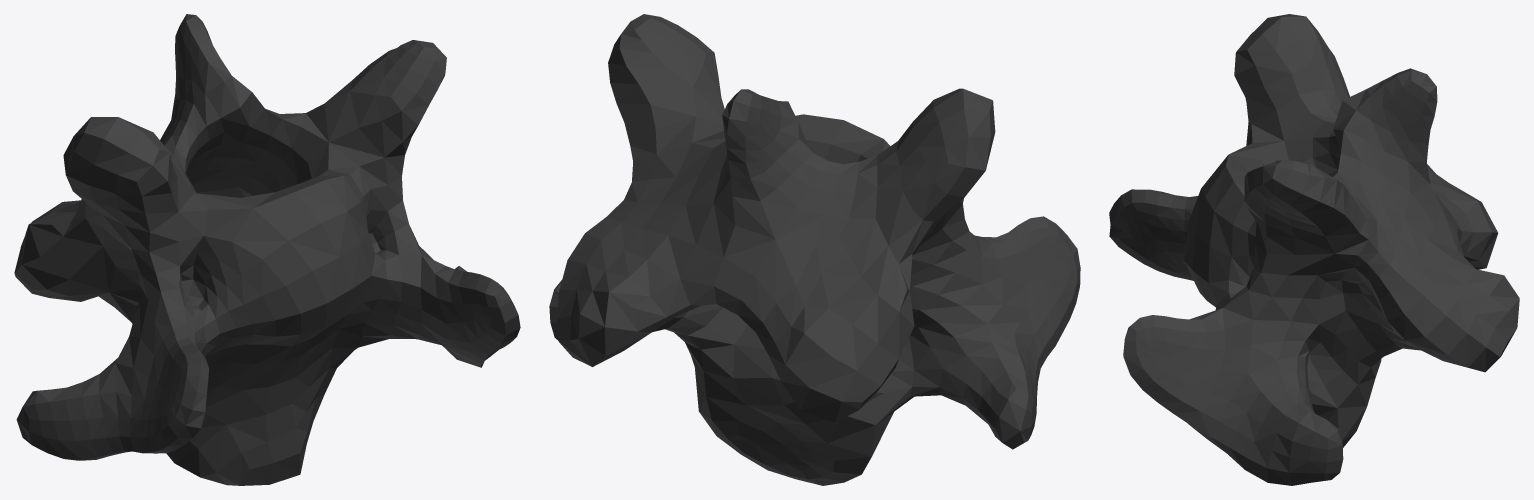
3 renders of one model, left to right at view 1: azimuth 30°, elevation 25°; view 2: azimuth 150°, elevation 25°; view 3: azimuth 270°, elevation 25°, orthographic. The views are drawn at different scales.
Parts seen in each view (by area): view 1: C5; view 2: C5; view 3: C5.
Boxes of the visible parts, x1,y1,x2,y2 form: C5: [14, 14, 520, 485]; C5: [549, 14, 1080, 485]; C5: [1109, 14, 1519, 485].
Bounding box in the file's own units: 2.79 × 2.48 × 2.34.
1 material, 1 textured.
